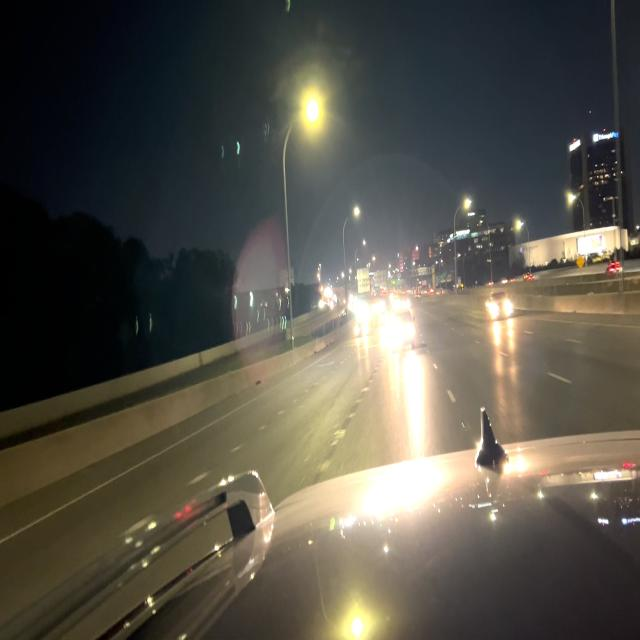back-of-sign: (357, 265, 387, 295)
